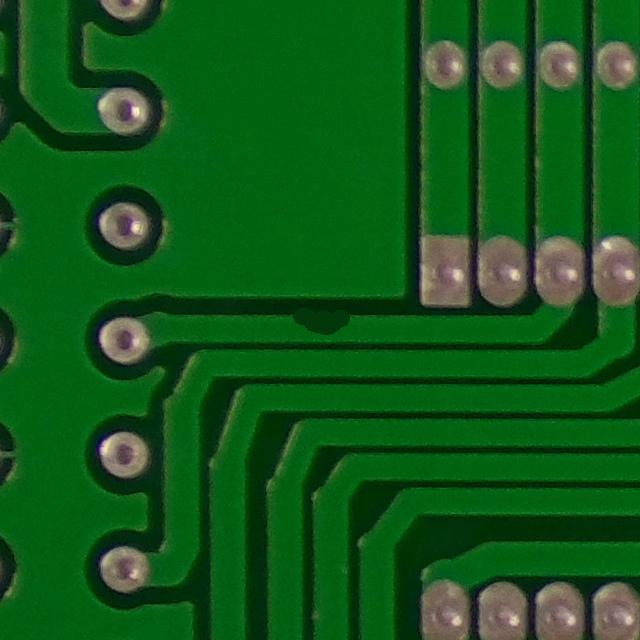mouse_bite: (274, 293, 367, 348)
